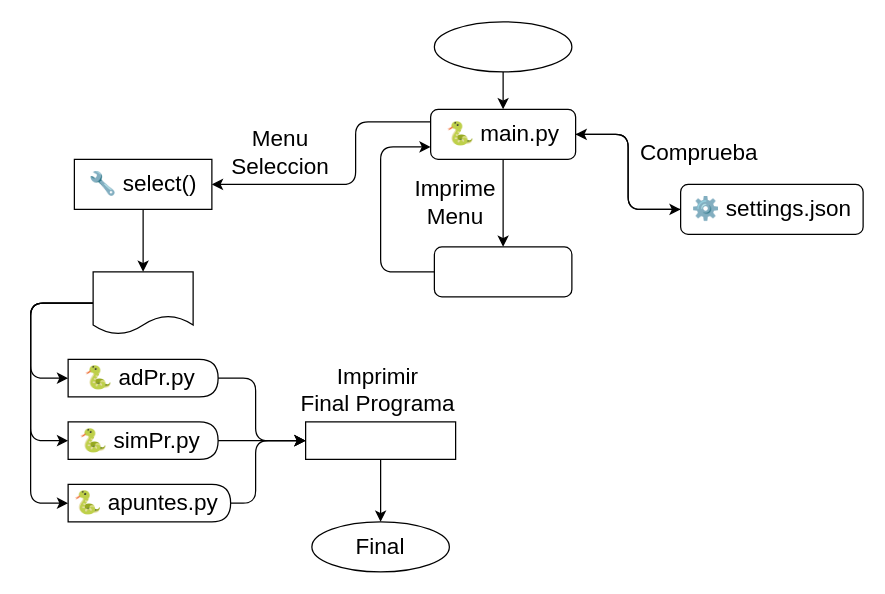
The diagram is 885 pixels wide and 594 high, and some of its shapes have lost their labels. Here are the shapes that lost their labels. From the top down, the centre of each, then its label:
At point 502,46: "Inicio".
At point 502,271: "🐍 deco.py".
At point 142,302: "📁 py".
At point 380,440: "🔧 finish()".
